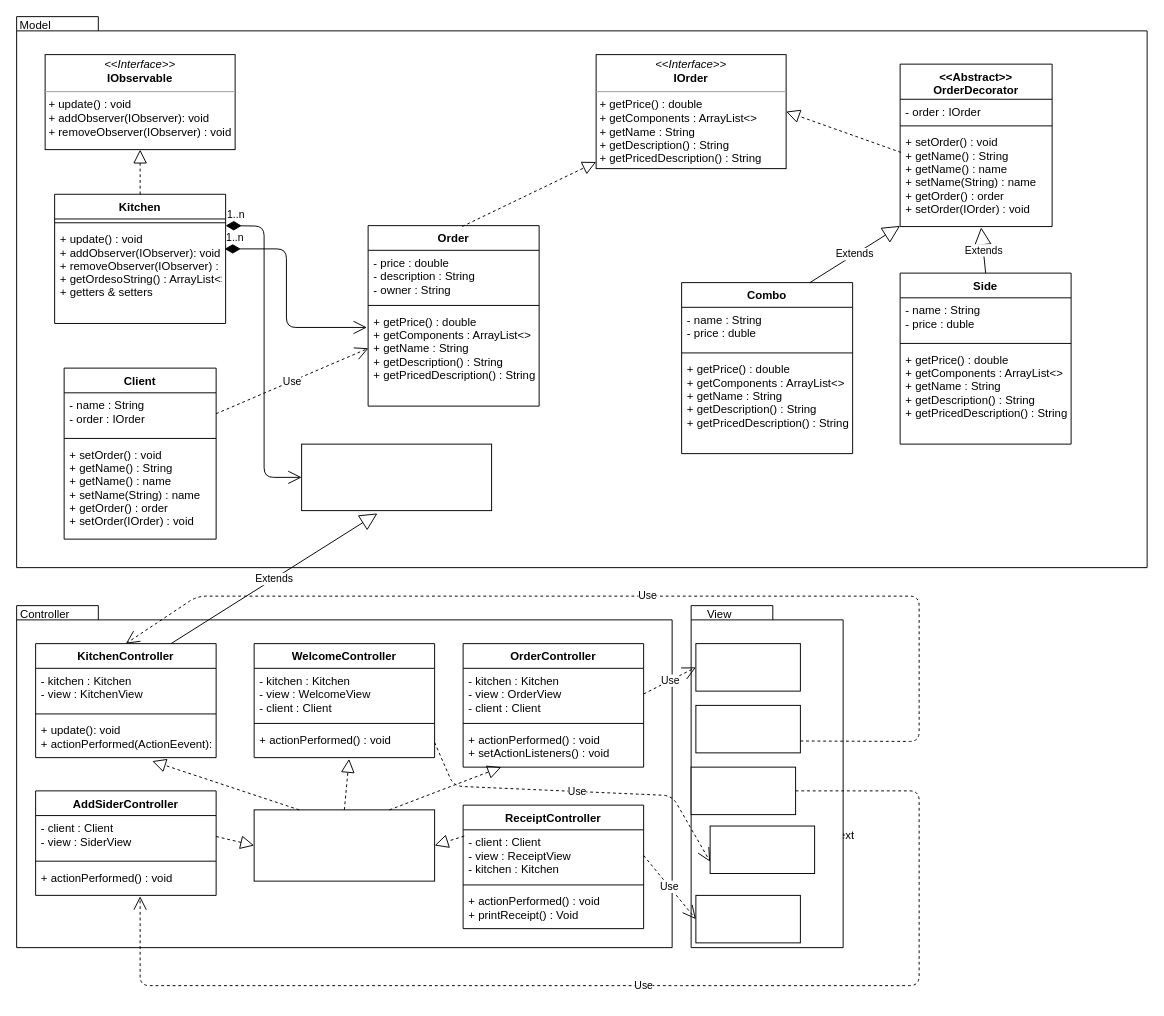
Image size: 1164x1016. Some labels were removed from this diagram. Each missing label, with the centre of its shape:
<<Interface>> ActionListener + actionPerformed(Event e): void: the point at 344,845
<<Interface>> IObserver + update() : void: the point at 396,477
KitchenView: the point at 747,728
OrderView: the point at 747,667
ReceiptView: the point at 747,918
SiderView: the point at 743,790
WelcomeView: the point at 762,849
